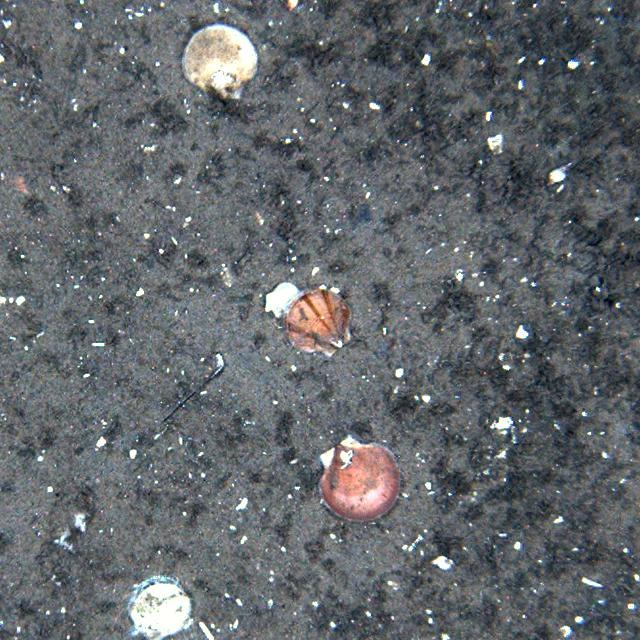scallop: (314, 432, 404, 528), (287, 289, 352, 352)
